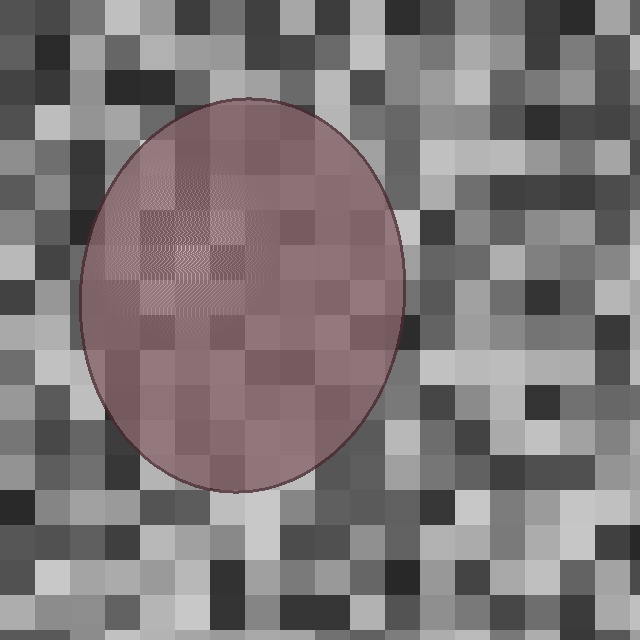lens: (81, 99, 403, 491)
